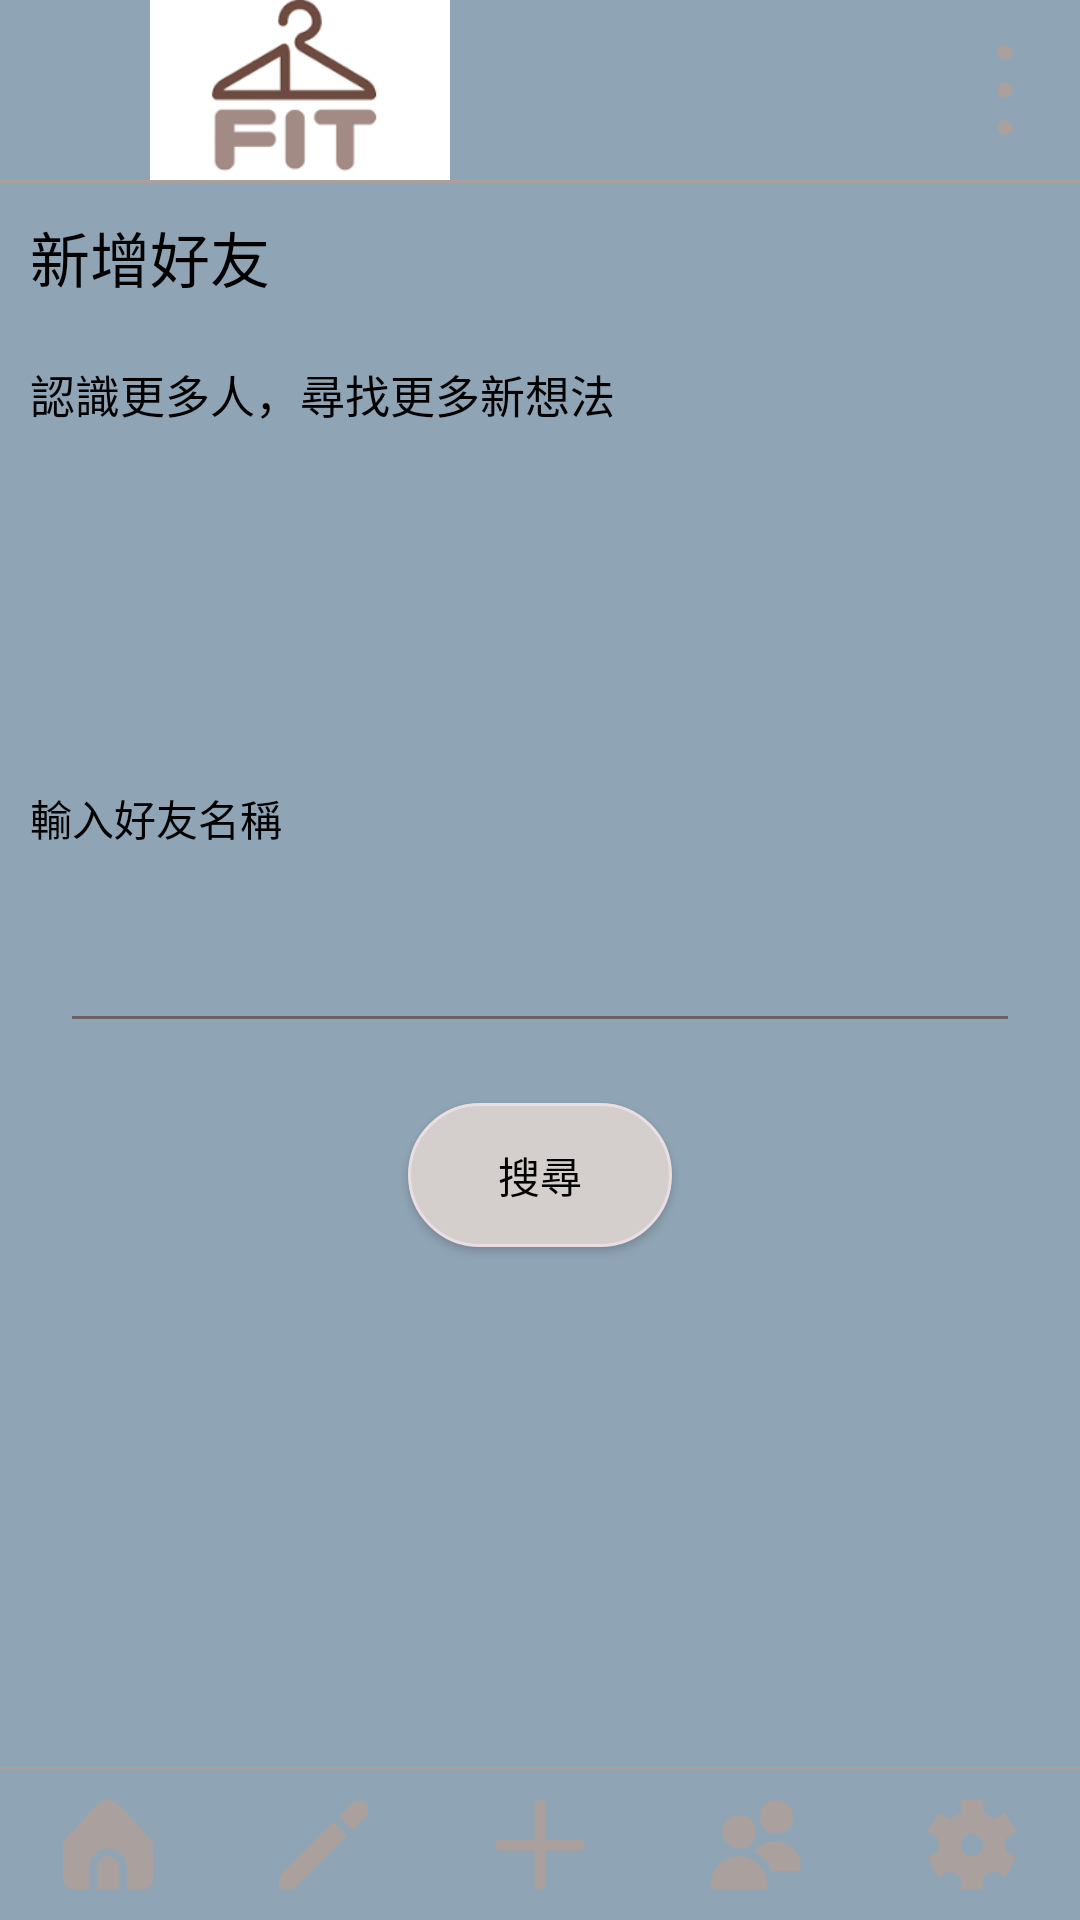

Icons on this 1080x1920 Android screen, each with the point to tap as (x,y):
home: (108,1845)
pencil: (323,1845)
plus: (540,1845)
settings: (972,1845)
users: (756,1845)
